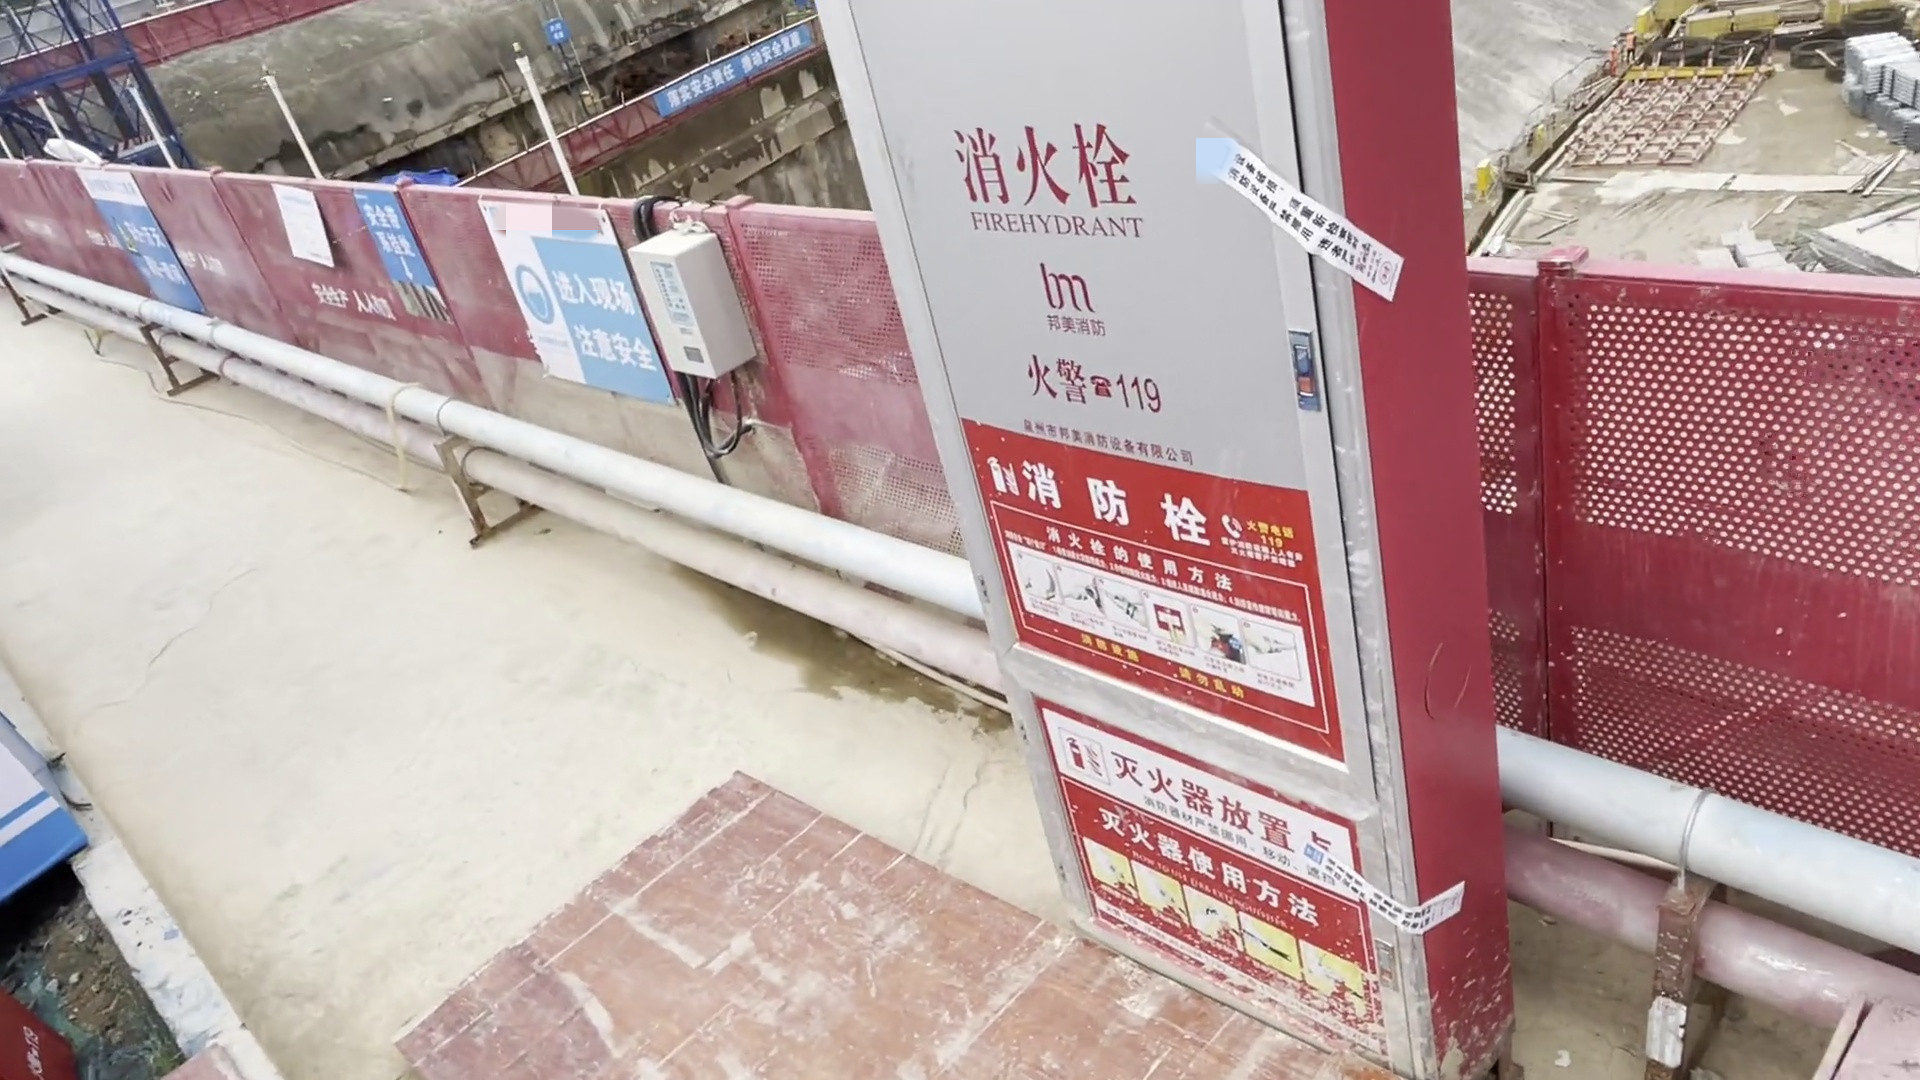board: (363, 761, 1019, 1080)
fence: (1486, 245, 1920, 856)
slogan: (477, 193, 684, 413), (240, 171, 456, 302), (55, 165, 204, 330), (659, 26, 815, 123)
